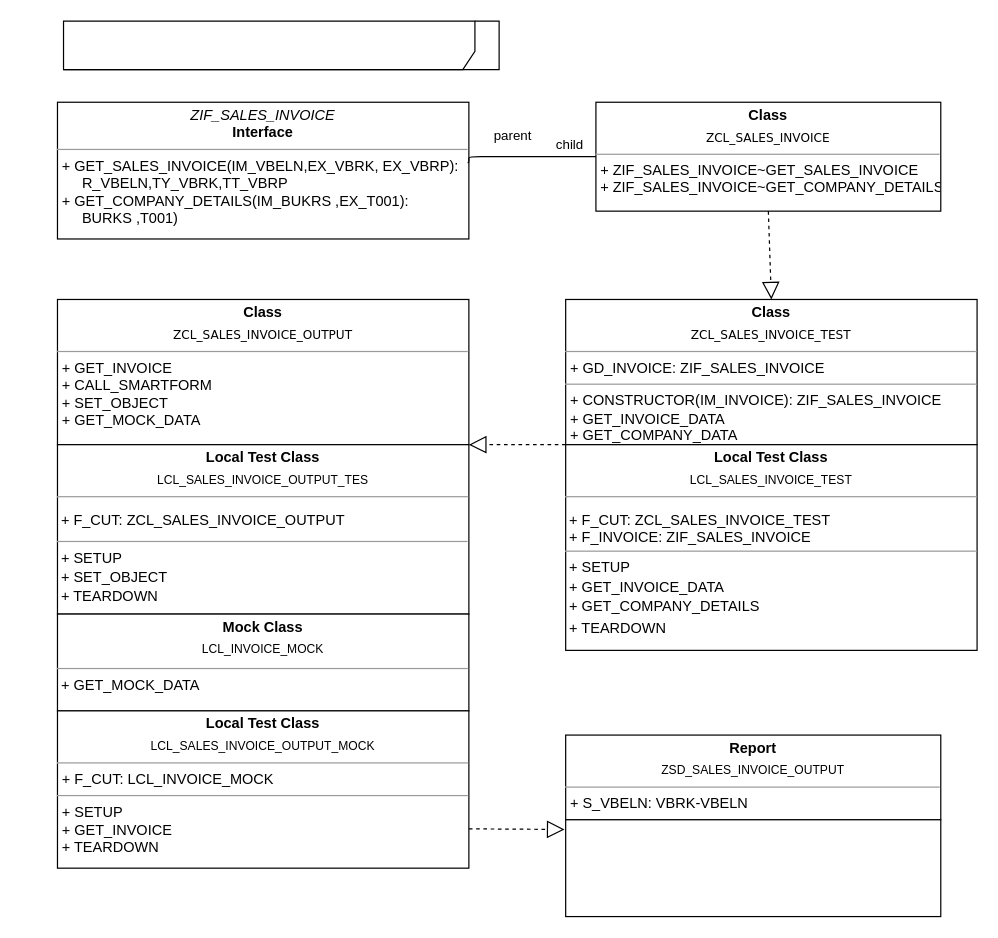
The diagram is 998 pixels wide and 938 high, and some of its shapes have lost their labels. The shapes that lost their labels are listed below. From the top down, each one's box as (x1, y1, x2, y2) in pixels, then its label:
(62, 20, 499, 70): Output Printing - Test Driven Development
(564, 819, 941, 917): Local Class + LO_OUTPUT: ZCL_SALES_INVOICE_OUTPUT + DISPLAY
